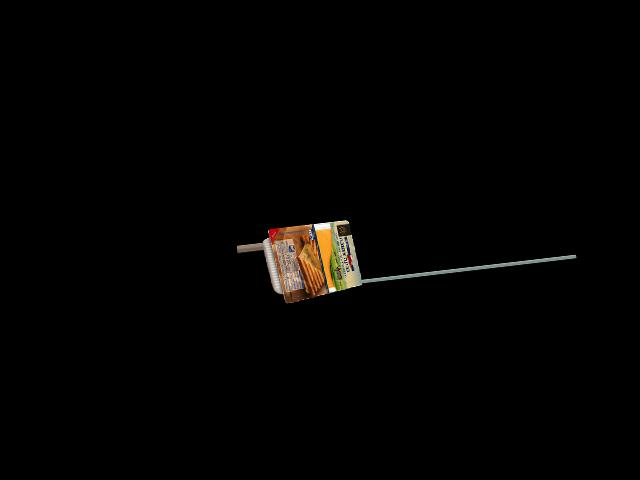cheese: (260, 222, 362, 303)
